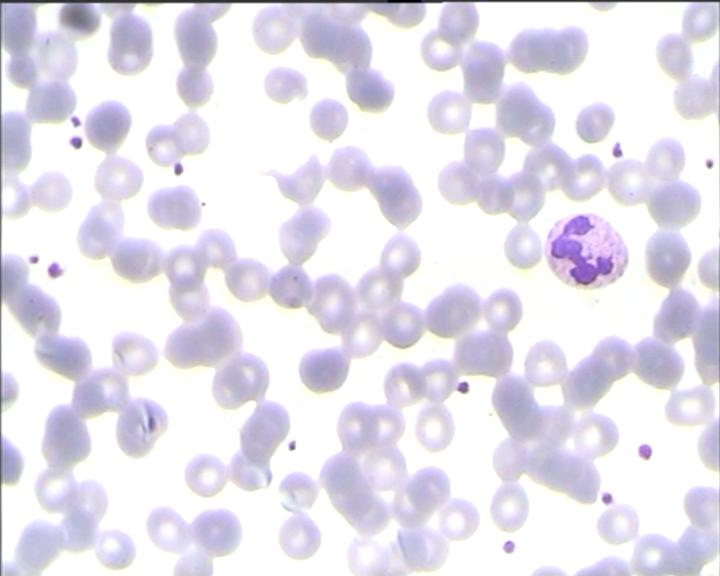neut: (542, 210, 631, 290)
